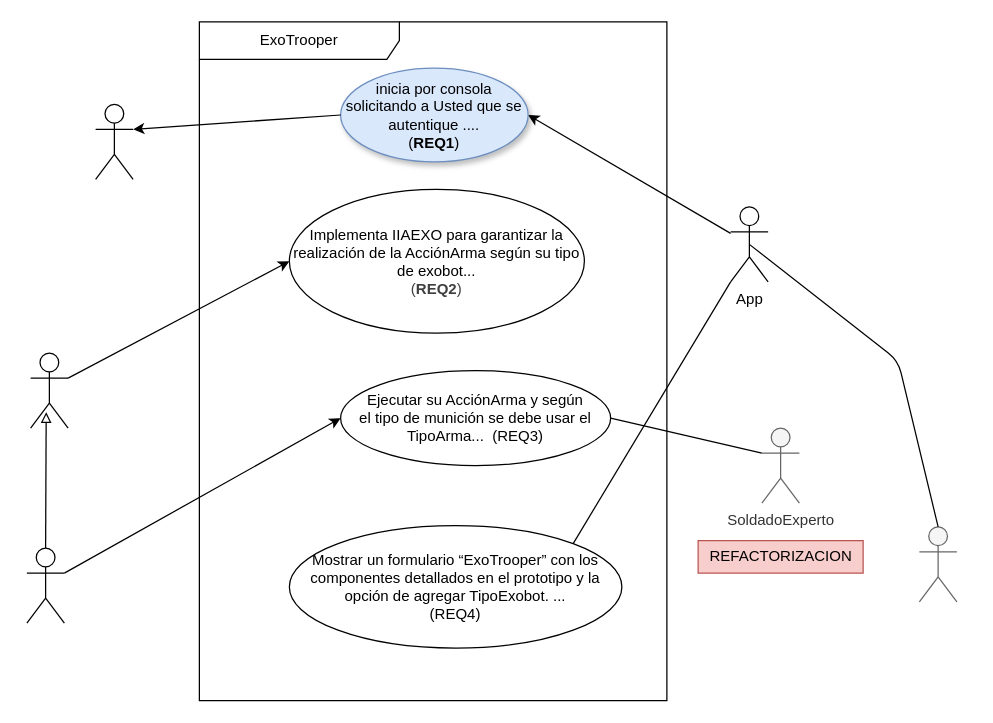
Some shapes in this 993 by 723 pixel diagram are drawn without their labels. The centre of each missing label's shape, as x and y in pixels:
"DataBase" goes at (937,564).
"ExoBot" goes at (45,585).
"IAEXO" goes at (48,390).
"Usuario" goes at (113,141).
